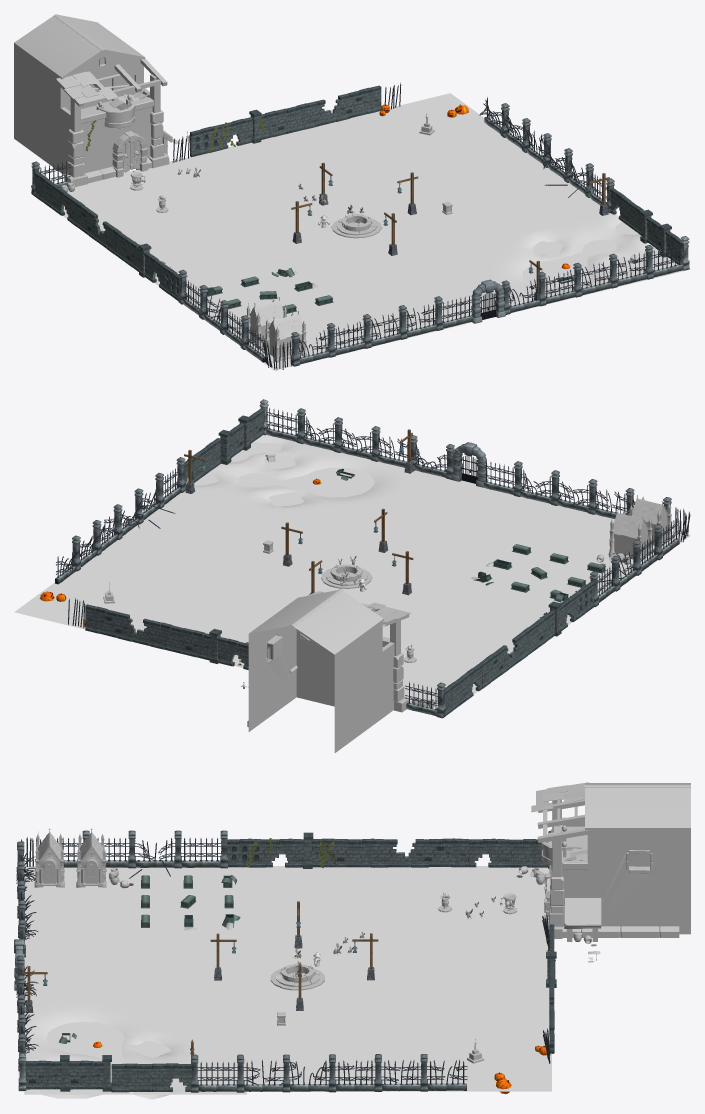
The model's file is creep.FBX.
3 renders of one model, top to bottom at view 1: azimuth 30°, elevation 25°; view 2: azimuth 150°, elevation 25°; view 3: azimuth 270°, elevation 25°, orthographic. The views are drawn at different scales.
Visible parts, largest first — view 1: Suelo, env_cem_casona, Agua pantano, env_cem_cripta, env_cem_puerta, env_cem_cripta001, env_cem_pozo, env_cem_verja_012, env_cem_muros_012, env_cem_muros_015, env_cem_verja_013, env_cem_muros_018 (+20 smaller); view 2: Suelo, env_cem_casona, Agua pantano, env_cem_cripta001, env_cem_puerta, env_cem_cripta, env_cem_pozo, env_cem_verja_015, env_cem_muros_015, env_cem_muros_012, env_cem_verja_022, env_cem_verja_013 (+24 smaller); view 3: Suelo, env_cem_casona, Agua pantano, env_cem_cripta, env_cem_cripta001, env_cem_muros_023, env_cem_muros_021, env_cem_muros_010, env_cem_verja_04, env_cem_muros_026, env_cem_pozo, env_cem_muros_019 (+15 smaller).
Boxes of the visible parts, bbox=[...] form: Suelo: bbox=[63, 93, 690, 370]; env_cem_casona: bbox=[14, 14, 172, 187]; Agua pantano: bbox=[511, 221, 687, 313]; env_cem_cripta: bbox=[264, 311, 307, 362]; env_cem_puerta: bbox=[471, 279, 505, 323]; env_cem_cripta001: bbox=[246, 296, 286, 348]; env_cem_pozo: bbox=[331, 214, 382, 238]; env_cem_verja_012: bbox=[537, 269, 575, 306]; env_cem_muros_012: bbox=[286, 101, 318, 133]; env_cem_muros_015: bbox=[348, 85, 381, 118]; env_cem_verja_013: bbox=[644, 244, 683, 279]; env_cem_muros_018: bbox=[190, 124, 222, 157]; Suelo: bbox=[14, 434, 690, 708]; env_cem_casona: bbox=[247, 589, 410, 752]; Agua pantano: bbox=[194, 441, 374, 506]; env_cem_cripta001: bbox=[608, 509, 653, 561]; env_cem_puerta: bbox=[451, 442, 488, 487]; env_cem_cripta: bbox=[629, 495, 672, 546]; env_cem_pozo: bbox=[321, 564, 372, 588]; env_cem_verja_015: bbox=[405, 681, 446, 718]; env_cem_muros_015: bbox=[85, 604, 118, 637]; env_cem_muros_012: bbox=[150, 620, 183, 653]; env_cem_verja_022: bbox=[483, 460, 523, 496]; env_cem_verja_013: bbox=[266, 408, 306, 444]; Suelo: bbox=[18, 866, 551, 1099]; env_cem_casona: bbox=[531, 782, 690, 941]; Agua pantano: bbox=[24, 1022, 246, 1094]; env_cem_cripta: bbox=[34, 828, 64, 887]; env_cem_cripta001: bbox=[76, 828, 106, 887]; env_cem_muros_023: bbox=[348, 838, 388, 867]; env_cem_muros_021: bbox=[429, 838, 469, 867]; env_cem_muros_010: bbox=[111, 1063, 151, 1092]; env_cem_verja_04: bbox=[328, 1054, 375, 1092]; env_cem_muros_026: bbox=[227, 838, 265, 867]; env_cem_pozo: bbox=[270, 963, 324, 990]; env_cem_muros_019: bbox=[25, 1060, 61, 1089].
Bounding box in the file's own units: 8103 × 2272 × 10149.
